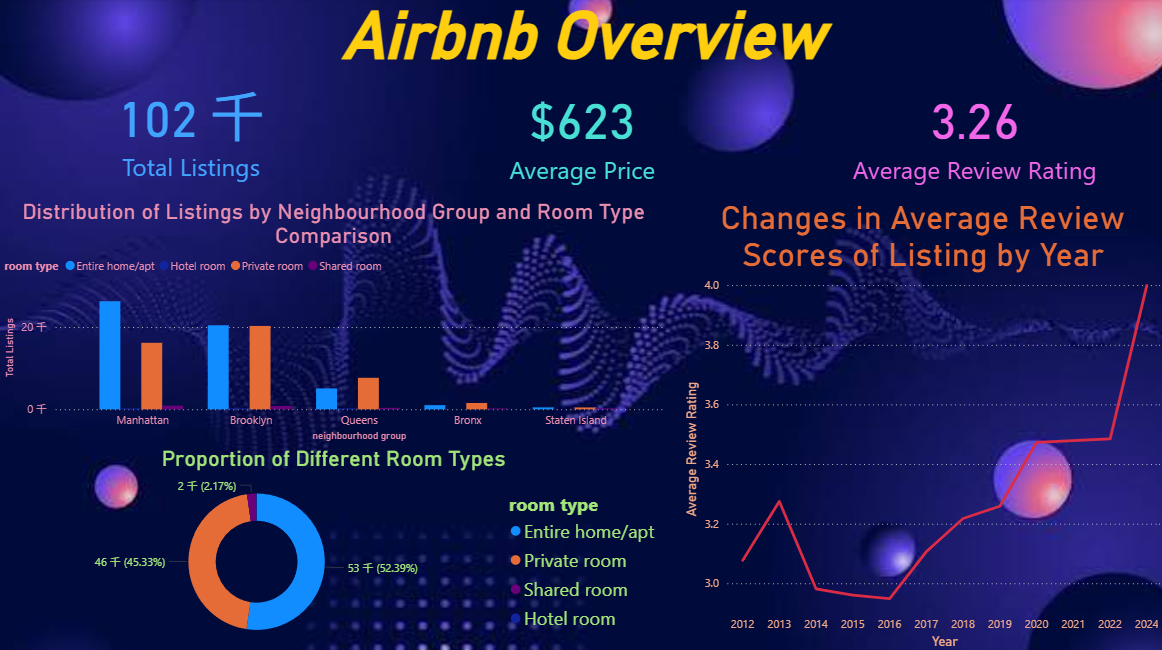

The page's visual inventory and layout, read from the dashboard file:
{"tool":"powerbi","page":{"name":"Airbnb Overview","canvas":[1280,720],"ordinal":0},"visuals":[{"type":"card","fields":{"Values":["FactListings.Total Listings"]},"box":[0,76.8,419.9,137.2],"z":0},{"type":"card","fields":{"Values":["FactListings.Average Price"]},"box":[429.5,76.8,419.9,142.7],"z":1000},{"type":"card","fields":{"Values":["FactListings.Average Review Rating"]},"box":[860.4,76.8,419.9,142.7],"z":2000},{"type":"clusteredColumnChart","title":"Distribution of Listings by Neighbourhood Group and Room Type Comparison","fields":{"Category":["DimLocation.neighbourhood group"],"Y":["FactListings.Total Listings"],"Series":["DimRoom.room type"]},"box":[0,220.9,732.8,271.7],"z":3000},{"type":"donutChart","title":"Proportion of Different Room Types","fields":{"Category":["DimRoom.room type"],"Y":["FactListings.Total Listings"]},"box":[0,492.6,732.8,227.8],"z":4000},{"type":"lineChart","title":"Changes in Average Review Scores of Listing by Year","fields":{"Category":["DimDate.Year"],"Y":["FactListings.Average Review Rating"]},"box":[746.5,220.9,533.8,499.5],"z":5000},{"type":"textbox","title":"Airbnb Overview","box":[0,0,1280.3,76.8],"z":6000}]}

Visuals, with their boxes in screenshot pixels (x1, y1, x2, y2), scaled from the page's 1280x720 canvas onto the 1162x650 screenshot:
card - FactListings.Total Listings: rect(0, 69, 381, 193)
card - FactListings.Average Price: rect(390, 69, 771, 198)
card - FactListings.Average Review Rating: rect(781, 69, 1161, 198)
"Distribution of Listings by Neighbourhood Group and Room Type Comparison" clusteredColumnChart: rect(0, 199, 665, 445)
"Proportion of Different Room Types" donutChart: rect(0, 445, 665, 649)
"Changes in Average Review Scores of Listing by Year" lineChart: rect(678, 199, 1161, 649)
"Airbnb Overview" textbox: rect(0, 0, 1161, 69)
